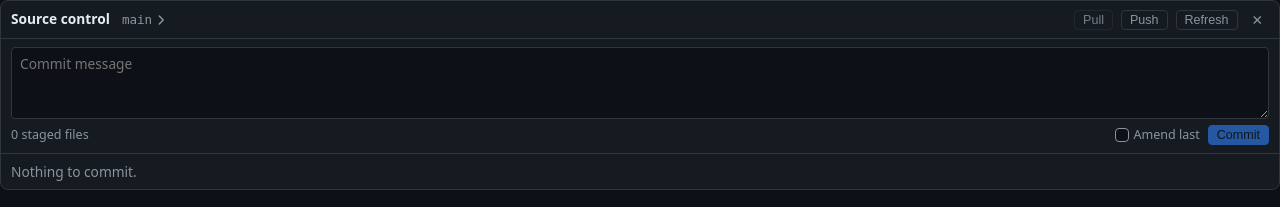
Test: writing a commit › lets a message be reworded with nothing staged
The image size is (1280, 207).
Click the checkbox labelled "Amend last".
click(1122, 135)  # box [1115,128,1129,142]
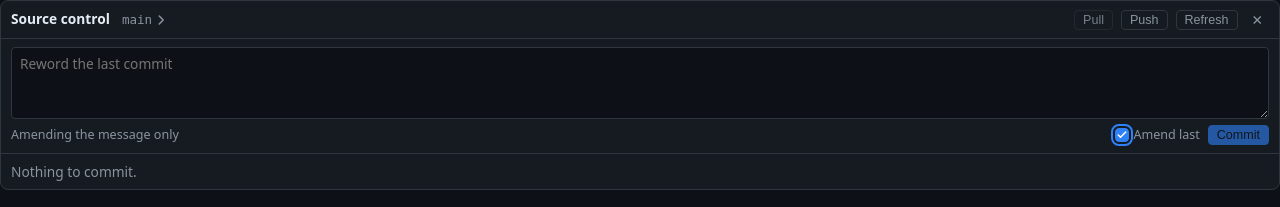
Type "A better message" into the text box named "Commit message".
click(640, 83); type("A better message")  # box [11,47,1269,119]
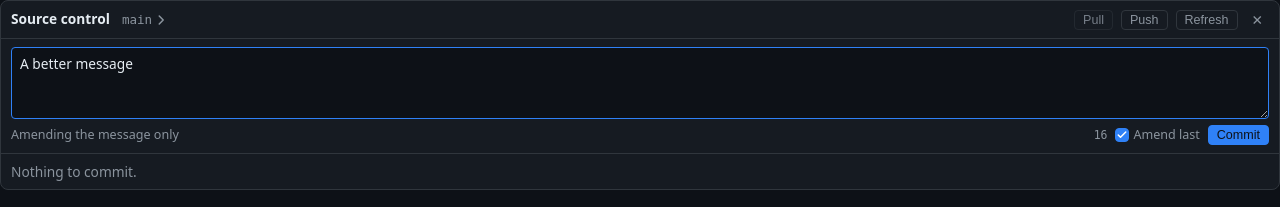
Result: the button "Commit" is enabled at [1208,125,1269,145]
